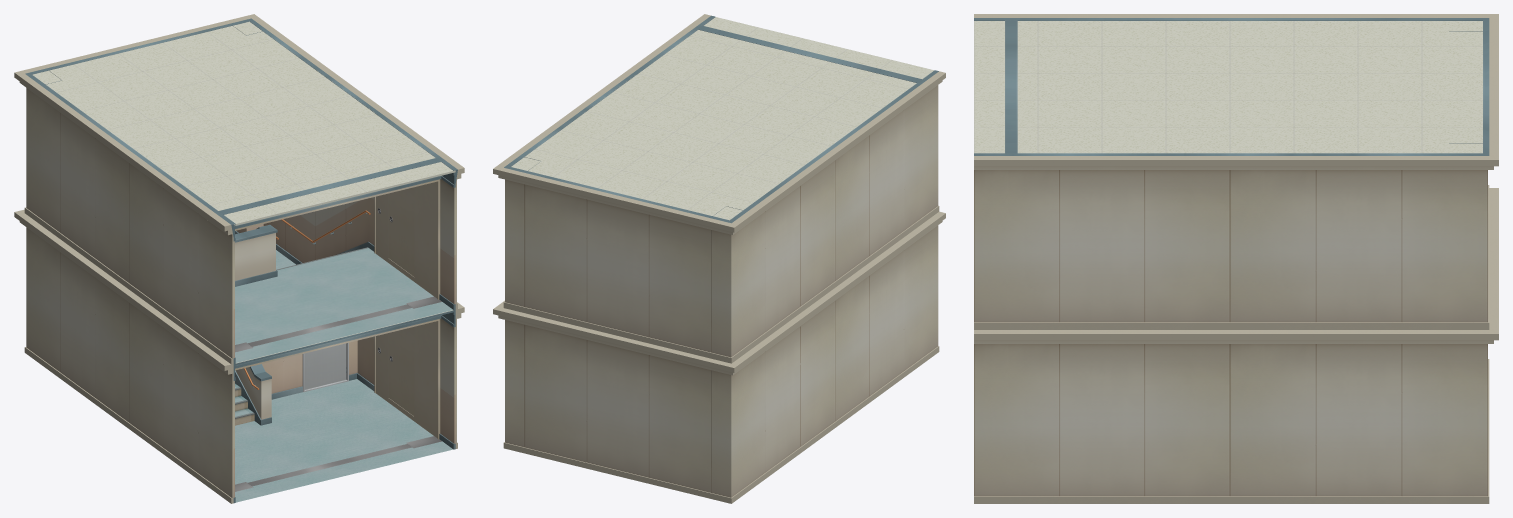
File: SHW_Stairs_01_06.fbx
3 views of the same model, side by side, from view 1: azimuth 30°, elevation 25°; view 2: azimuth 150°, elevation 25°; view 3: azimuth 270°, elevation 25° (orthographic). The views are drawn at different scales.
Parts seen in each view (by area): view 1: wall_01, ceiling_01, floor_01, door_R (×2), fire_door_01 (×2), door2_R (×2), door01; view 2: wall_01, ceiling_01; view 3: wall_01, ceiling_01.
Part boxes in pixels (x1,y1,x2,y2): wall_01: (14, 14, 464, 503); ceiling_01: (32, 21, 455, 363); floor_01: (235, 252, 453, 502); door_R (×2): (375, 181, 437, 438); fire_door_01 (×2): (235, 179, 441, 491); door2_R (×2): (388, 187, 414, 416); door01: (304, 343, 346, 389); wall_01: (493, 14, 945, 503); ceiling_01: (511, 17, 933, 220); wall_01: (974, 14, 1498, 503); ceiling_01: (974, 21, 1482, 153).
Size of the model in its own units: 540 by 602 by 820.
